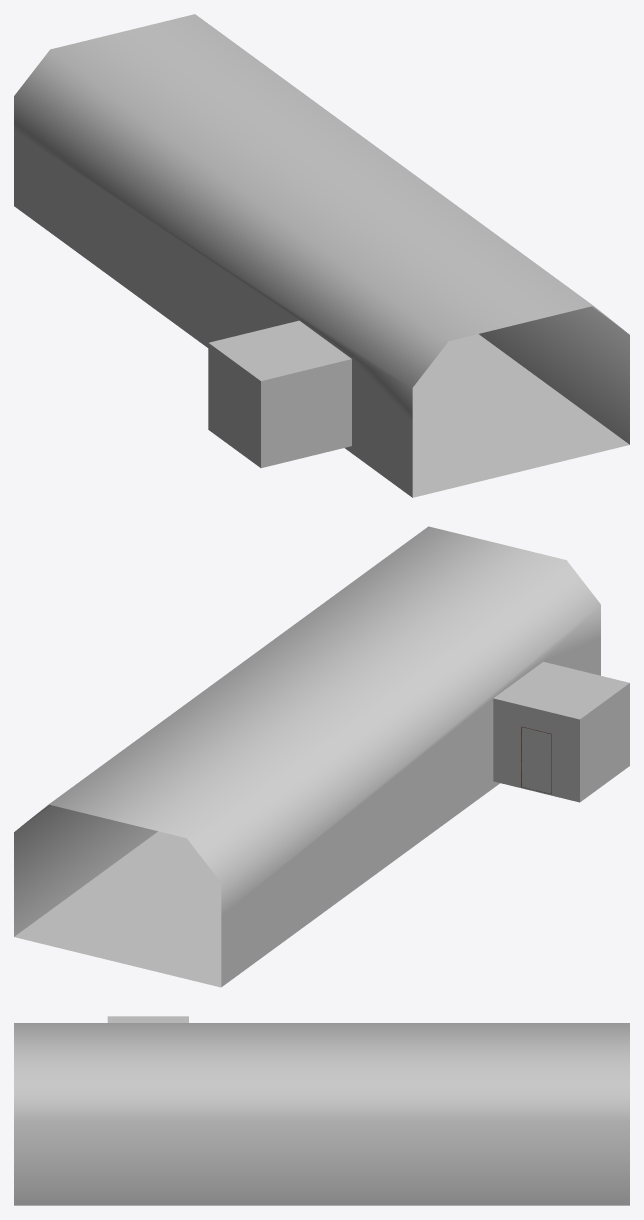
The model's file is Tunnel_Straight_Entrance_Empty.FBX.
3 renders of one model, top to bottom at view 1: azimuth 30°, elevation 25°; view 2: azimuth 150°, elevation 25°; view 3: azimuth 270°, elevation 25°, orthographic. The views are drawn at different scales.
Parts seen in each view (by area): view 1: Tunnel_Straight_Entrance; view 2: Tunnel_Straight_Entrance; view 3: Tunnel_Straight_Entrance.
Part boxes in pixels (left/top/right/bottom): Tunnel_Straight_Entrance: left=14, top=14, right=629, bottom=497; Tunnel_Straight_Entrance: left=14, top=526, right=629, bottom=987; Tunnel_Straight_Entrance: left=14, top=1016, right=629, bottom=1205.
Size of the model in its own units: 1508 by 691 by 3377.
